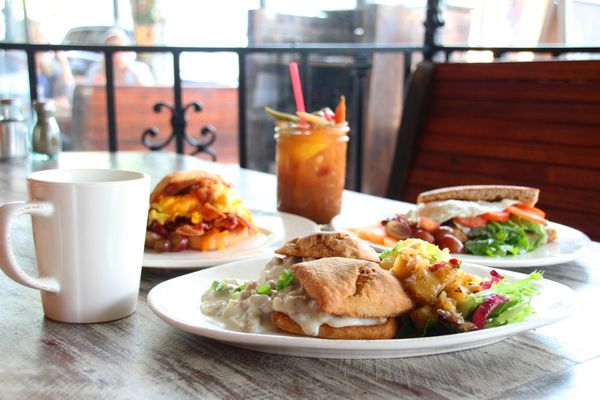pizza: (0, 166, 151, 325), (273, 109, 349, 224)
soup: (259, 254, 415, 340), (145, 169, 258, 252)
